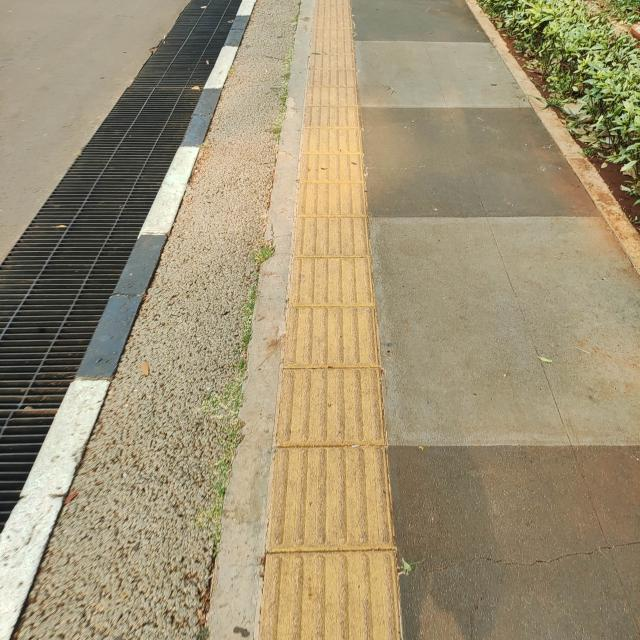lurus: (291, 7, 385, 640)
